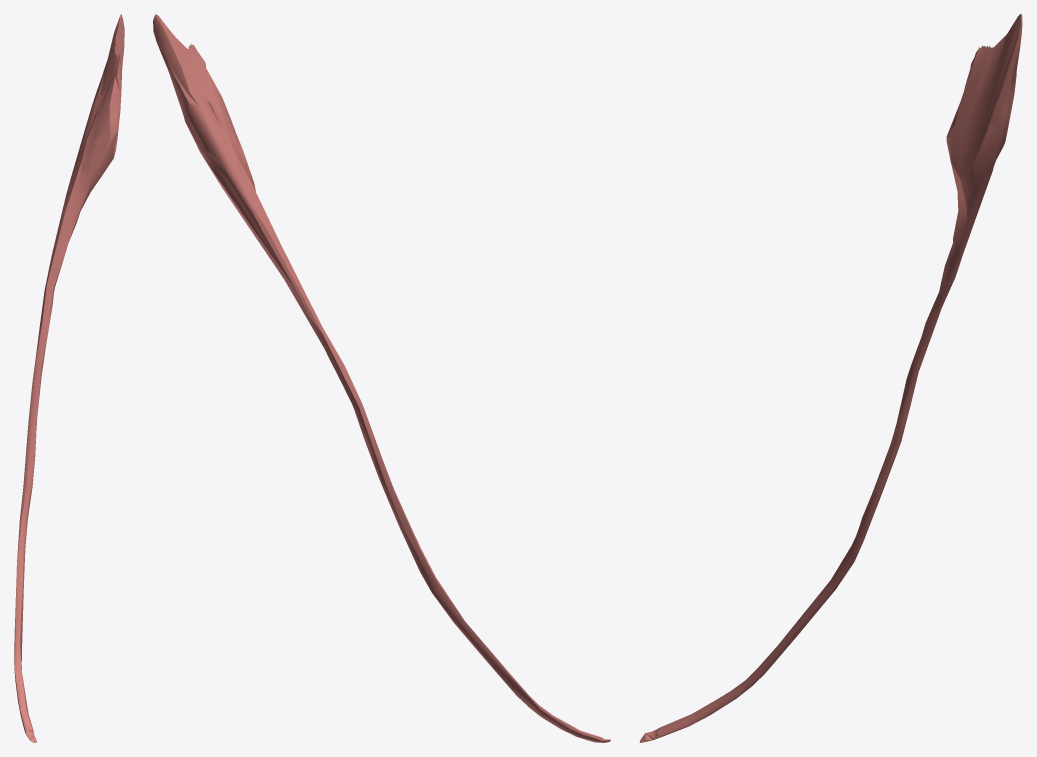
The model's file is fma38525_fj1493.glb.
3 views of the same model, side by side, from view 1: azimuth 30°, elevation 25°; view 2: azimuth 150°, elevation 25°; view 3: azimuth 270°, elevation 25° (orthographic). The views are drawn at different scales.
Parts seen in each view (by area): view 1: FMA38525_FJ1493; view 2: FMA38525_FJ1493; view 3: FMA38525_FJ1493.
Boxes of the visible parts, bbox=[...] form: FMA38525_FJ1493: bbox=[14, 14, 124, 742]; FMA38525_FJ1493: bbox=[153, 14, 610, 742]; FMA38525_FJ1493: bbox=[639, 14, 1022, 742].
Size of the model in its own units: 0.0781 by 0.1995 by 0.0783.
